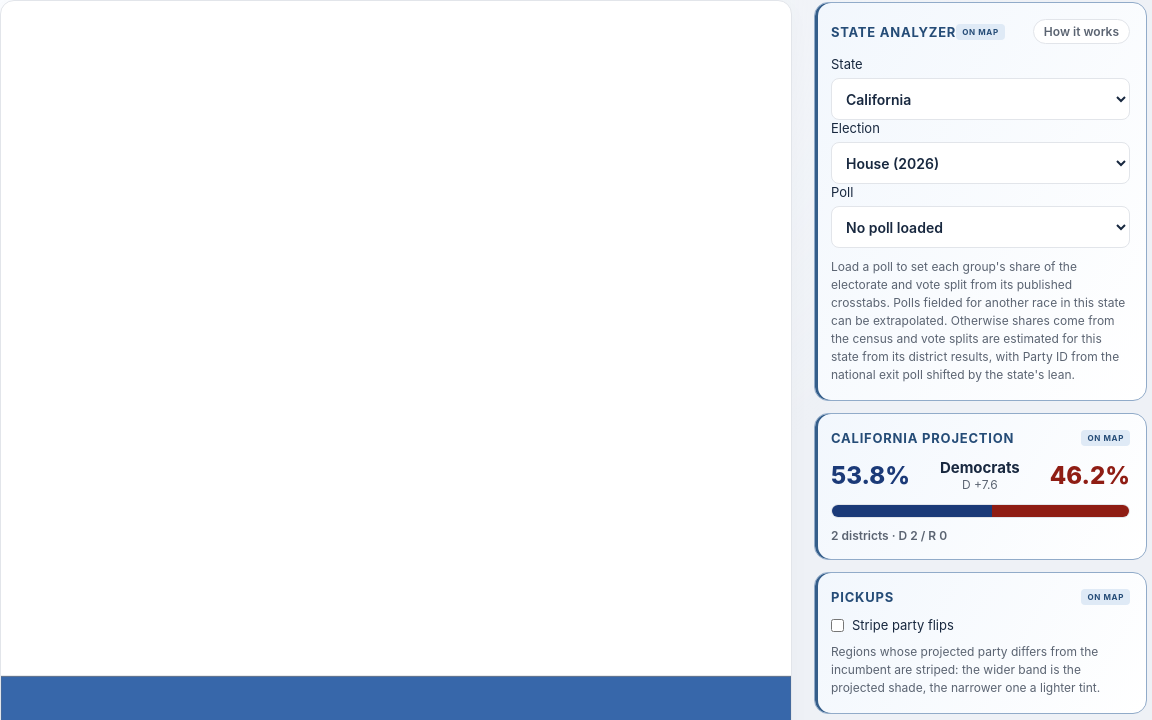
Test: StateAnalyzer › opens and closes the how-it-works popup
The image size is (1152, 720).
Click the button "How it works" at point(1081, 32), box [1033,19,1130,44]
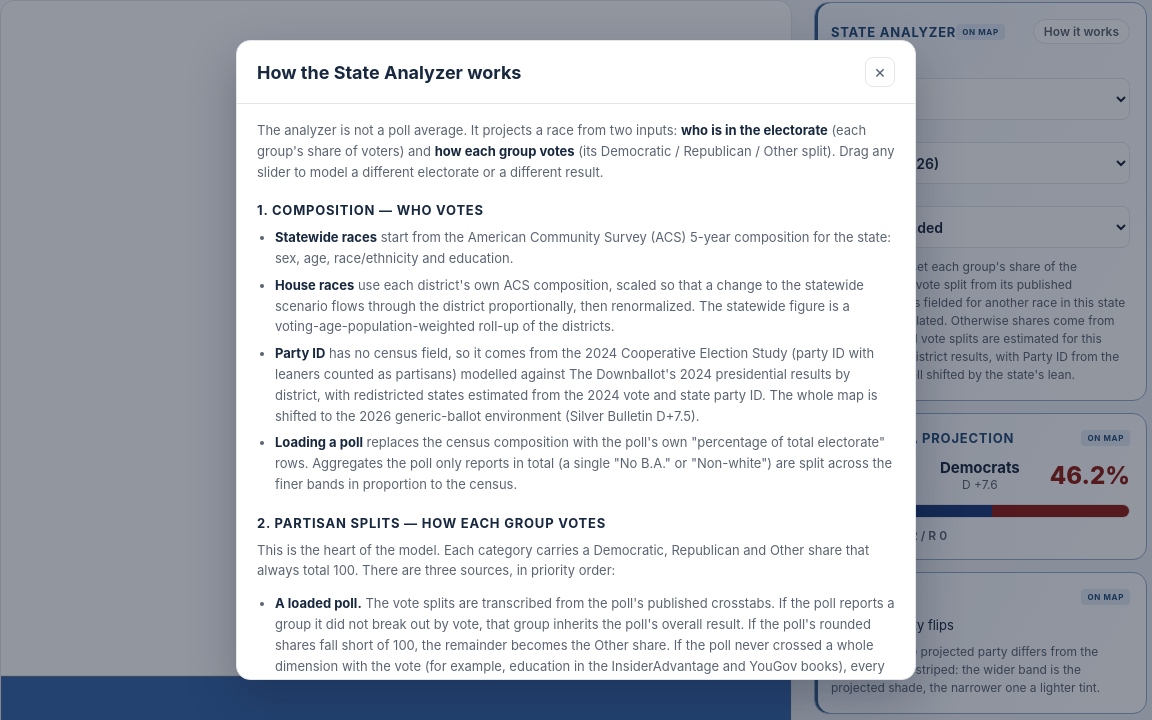
Expected: the dialog is shown
Click the button with class "analyzer__help-close" at point(880, 72), box [865,57,895,87]
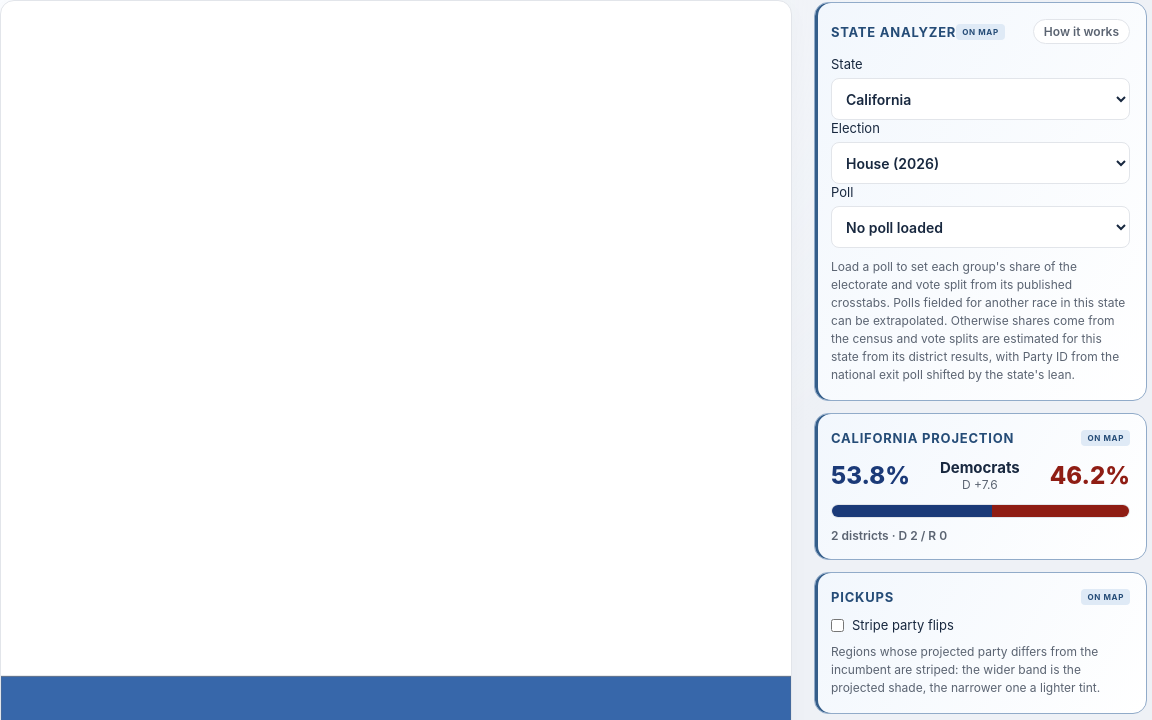
Expected: the dialog is gone
